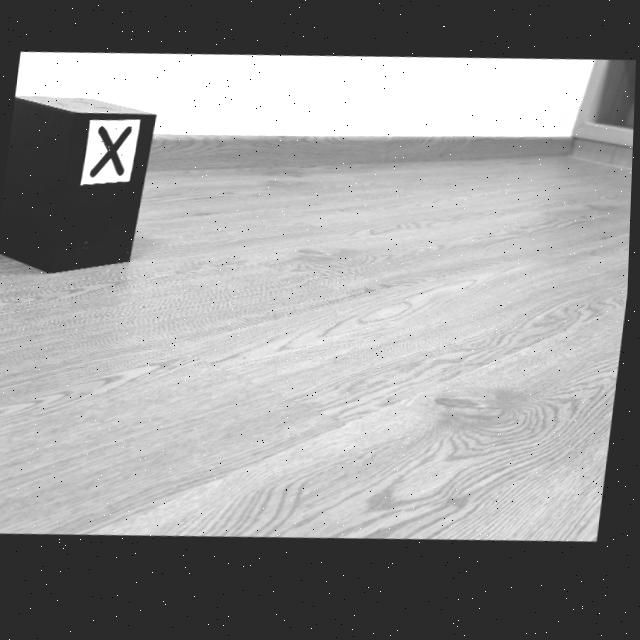X: (91, 128, 132, 178)
